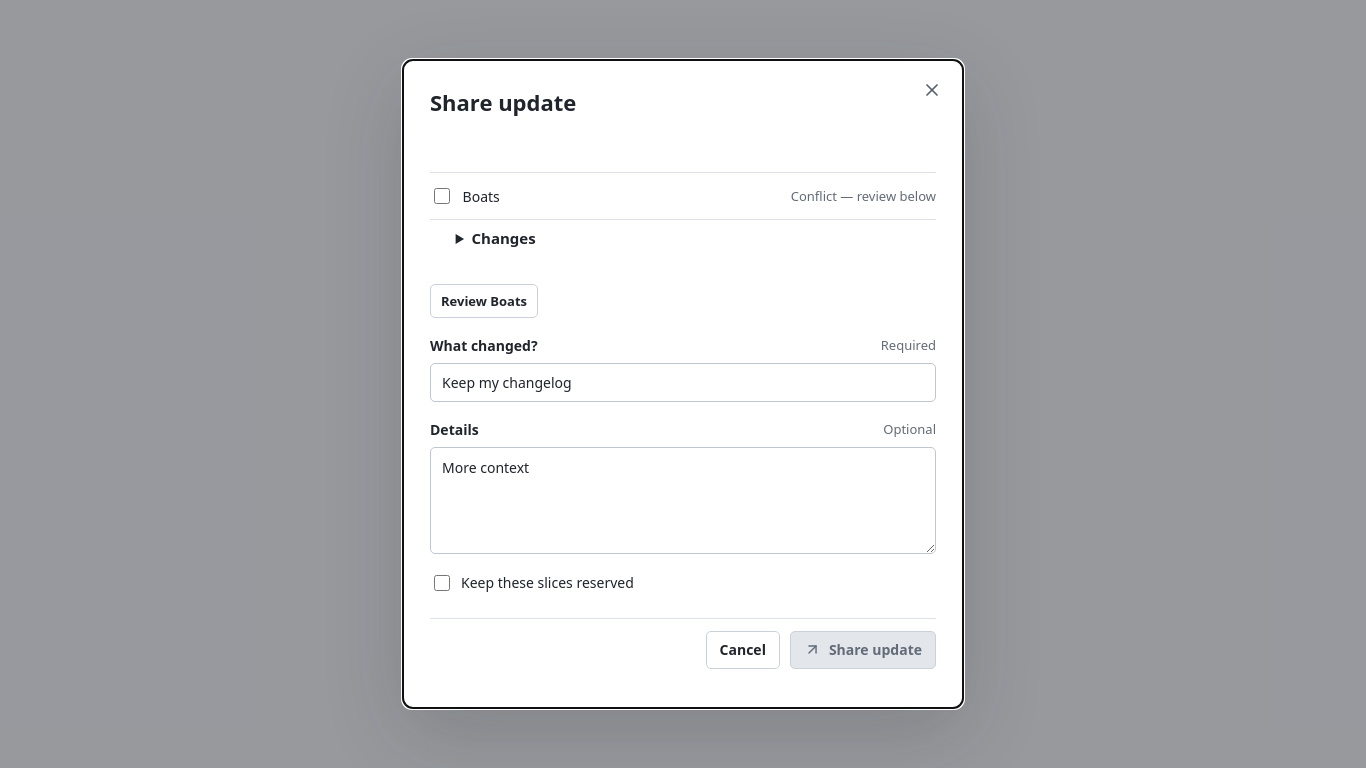
Scenario: shows a failed conflict preparation inside Share and preserves the draft for retry
Click the button "Review Boats": (484, 301) [430,284,538,318]
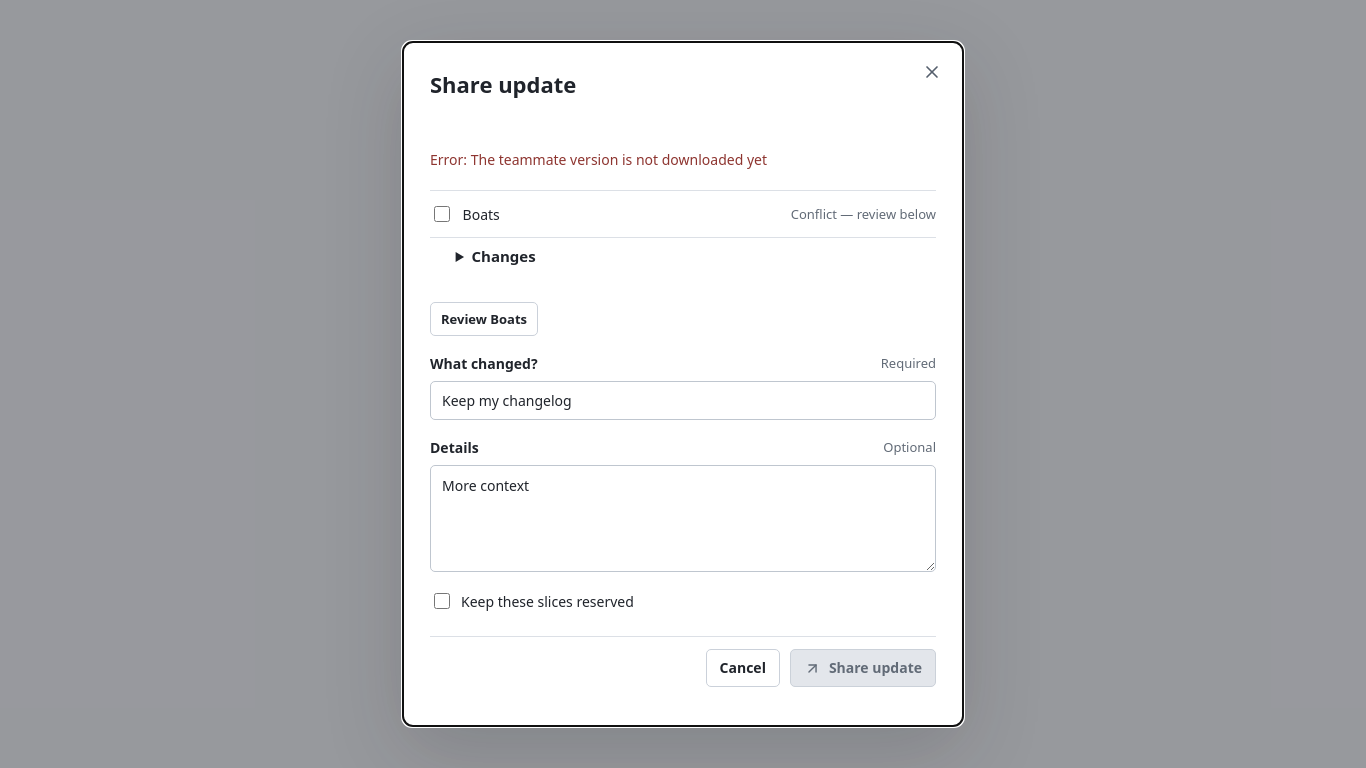
Expected: the dialog "Share update" is shown, [403,42,963,726]
Expected: the message shows "not downloaded yet", [430,150,767,169]
